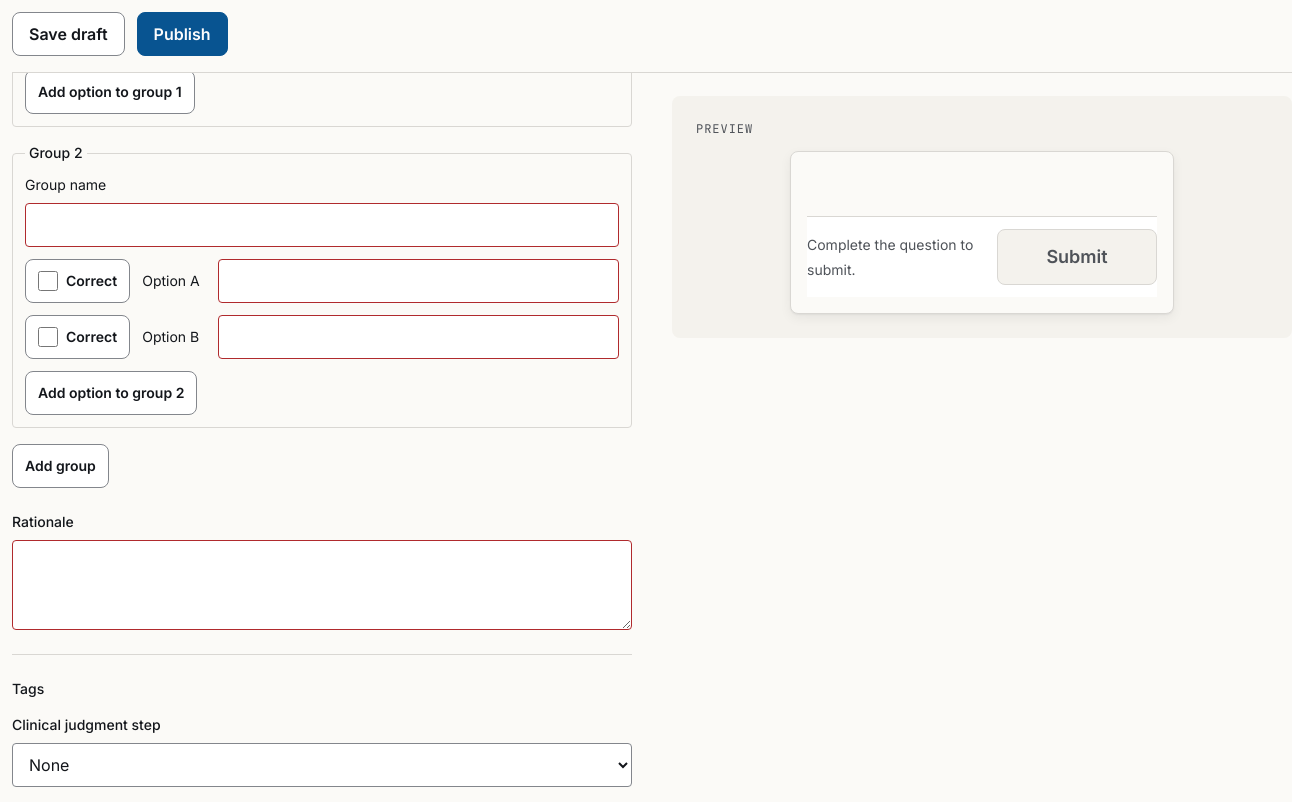
Test: GroupingEditor › adds a group and an option within a group
The width and height of the screenshot is (1292, 802).
(page scrolled)
Click the button "Add group".
click(60, 466)  # box [12,444,109,488]
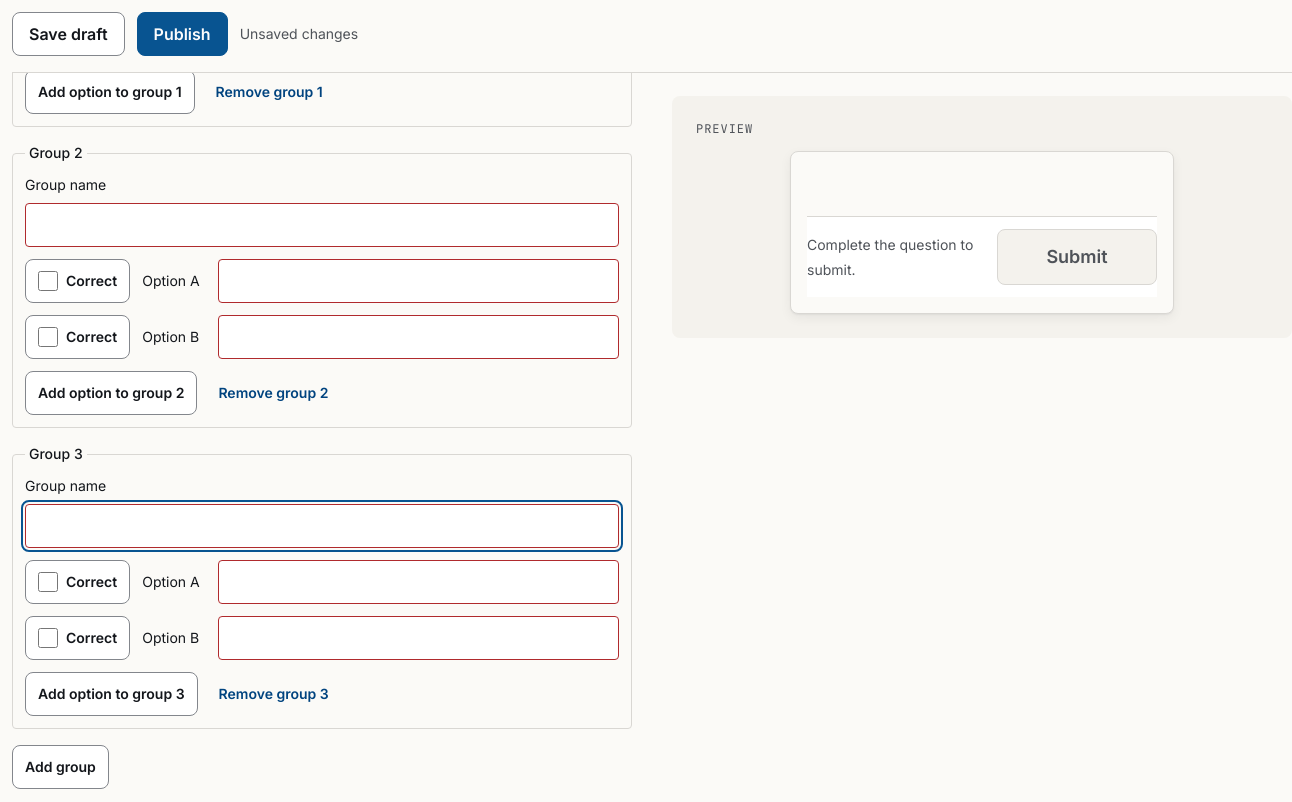
expect the element "Group 3" is shown: met, box [12,444,632,729]
Click the button "Add option to group 1".
click(110, 92)  # box [25,70,195,114]
(page scrolled)
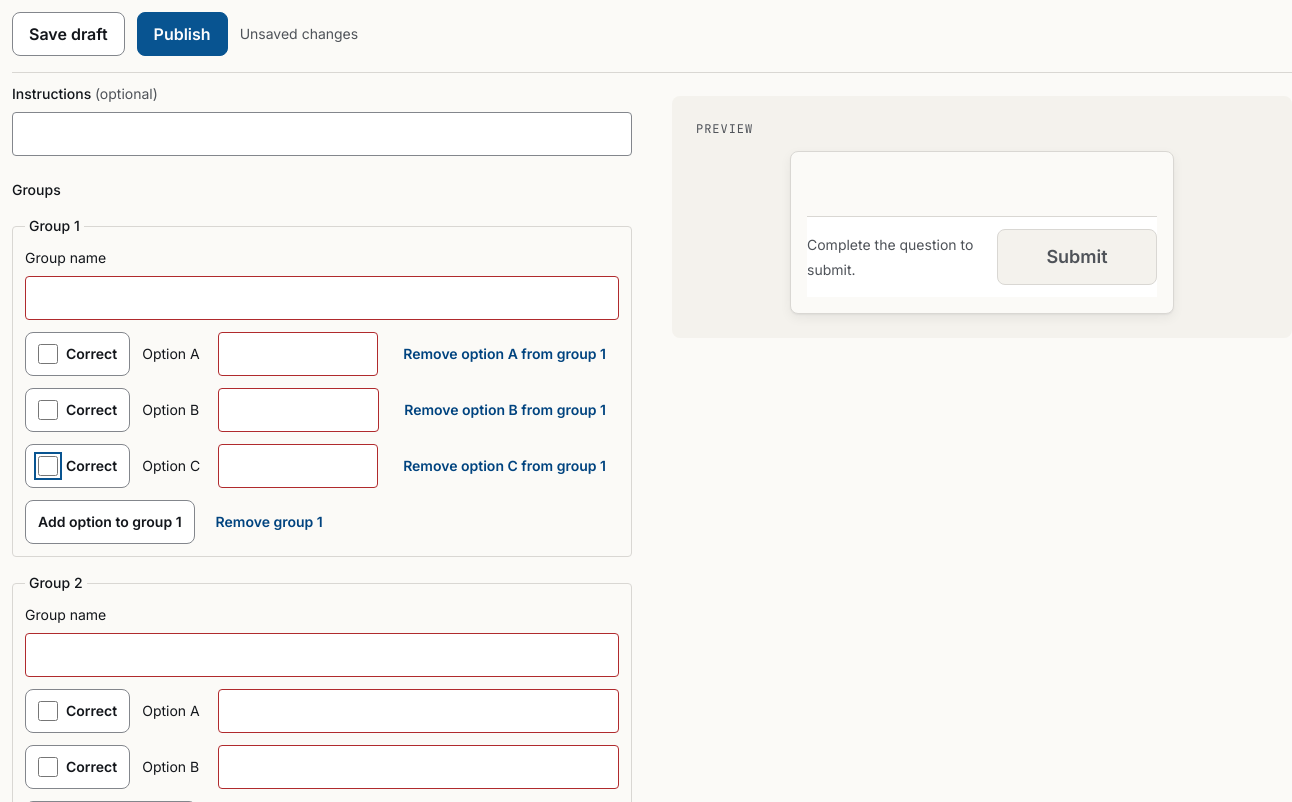
expect the field labelled "Option C" is shown: met, box [218,444,378,488]
